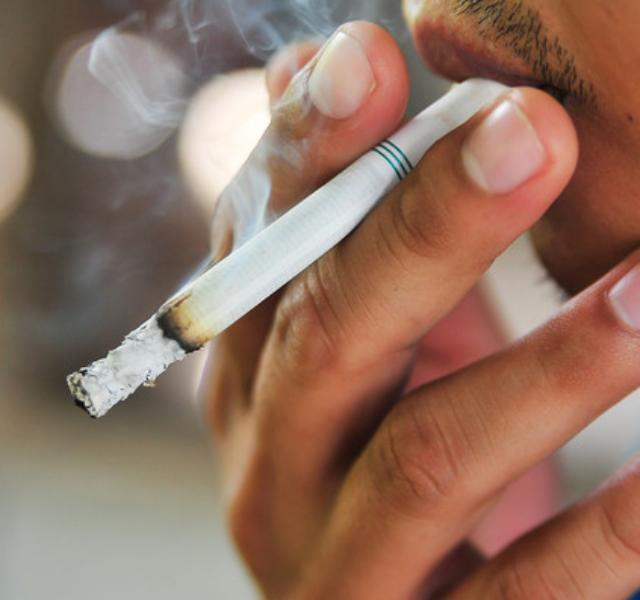Cigarette: (64, 74, 522, 424)
